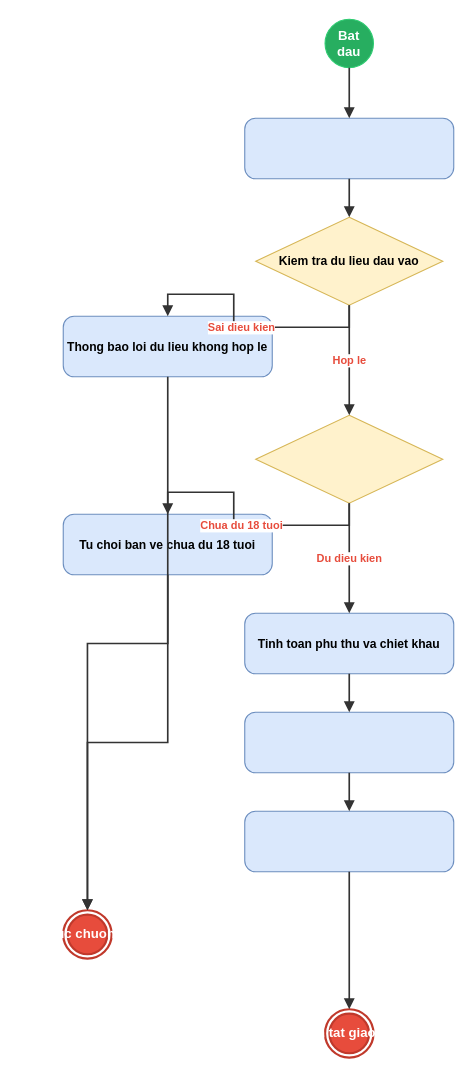
The diagram is 473 pixels wide and 1078 high, and some of its shapes have lost their labels. Each missing label, with the centre of its shape:
"Kiem tra tuoi xem phim T18" belongs at (349,458).
"Nhap du lieu tu ban phim" belongs at (349,148).
"Tinh tong tien thanh toan" belongs at (349,742).
"Xuat hoa don chi tiet" belongs at (349,841).
